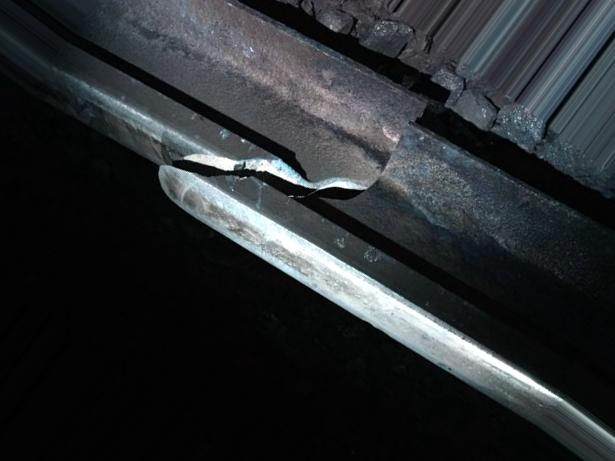tracks_fault: (122, 52, 467, 243)
